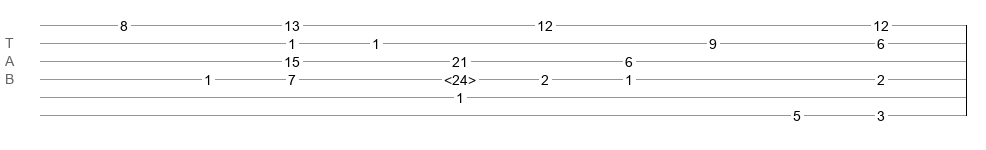1: (204, 72, 212, 82), (288, 36, 296, 46), (372, 36, 380, 46), (456, 90, 464, 100), (625, 72, 633, 82)
12: (537, 18, 553, 28), (873, 18, 889, 28)
13: (284, 18, 300, 28)
15: (284, 54, 300, 64)
2: (541, 72, 549, 82), (877, 72, 885, 82)
21: (452, 54, 468, 64)
3: (877, 108, 885, 118)
5: (793, 108, 801, 118)
6: (625, 54, 633, 64), (877, 36, 885, 46)
7: (288, 72, 296, 82)
8: (120, 18, 128, 28)
9: (709, 36, 717, 46)
harmonic: (444, 72, 476, 82)
